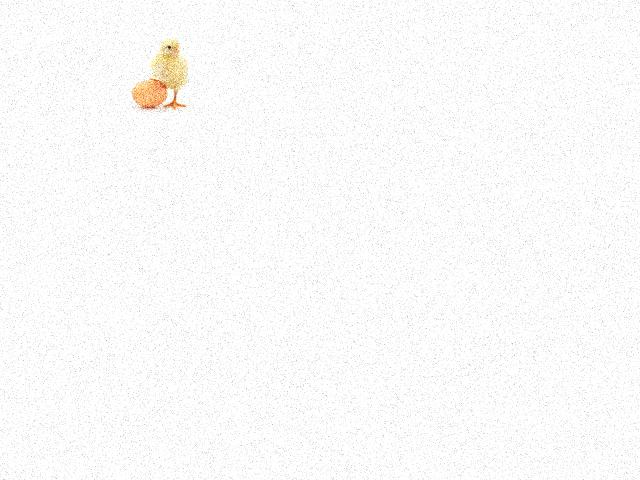egg: (131, 79, 168, 107)
